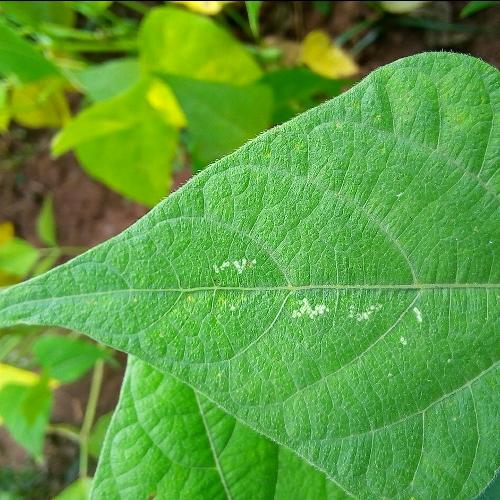embun tepung: (277, 290, 431, 334), (204, 242, 274, 276), (209, 294, 258, 318)
